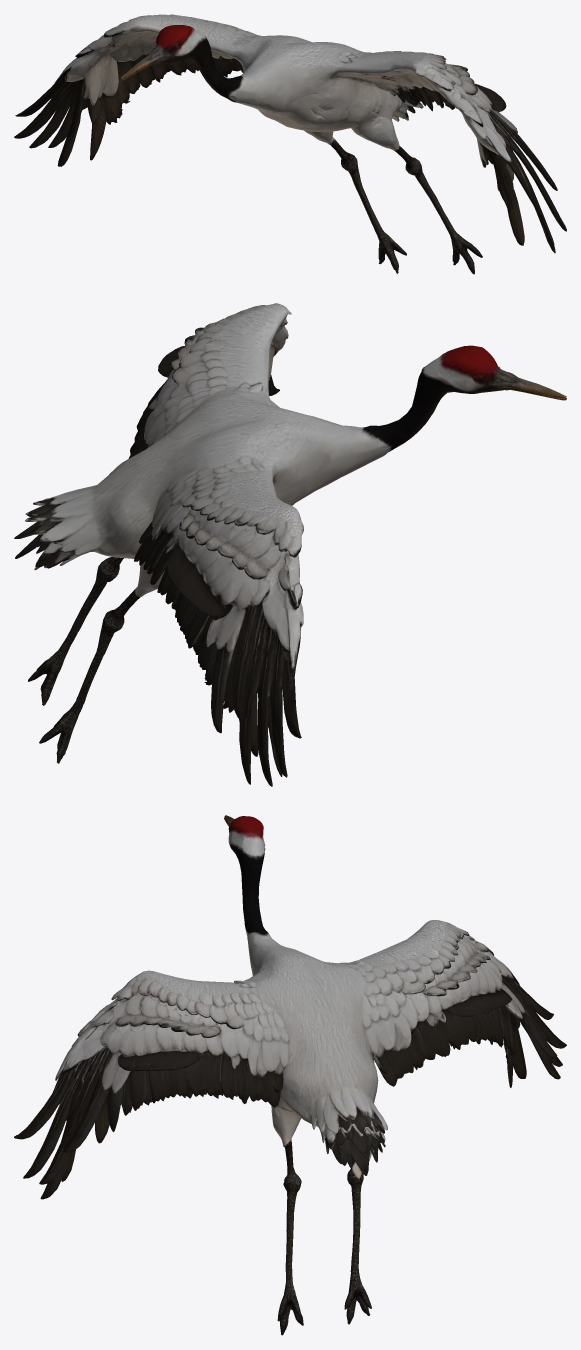
The model's file is whooping-crane.glb.
3 views of the same model, one above another, from view 1: azimuth 30°, elevation 25°; view 2: azimuth 150°, elevation 25°; view 3: azimuth 270°, elevation 25° (orthographic). The views are drawn at different scales.
Visible parts, largest first — view 1: tripo_node_90ae9a4c_tripo_mat_90ae9a4c_0; view 2: tripo_node_90ae9a4c_tripo_mat_90ae9a4c_0; view 3: tripo_node_90ae9a4c_tripo_mat_90ae9a4c_0.
Boxes of the visible parts, left/top/right/bottom form: tripo_node_90ae9a4c_tripo_mat_90ae9a4c_0: left=14, top=14, right=566, bottom=274; tripo_node_90ae9a4c_tripo_mat_90ae9a4c_0: left=14, top=303, right=566, bottom=786; tripo_node_90ae9a4c_tripo_mat_90ae9a4c_0: left=14, top=815, right=566, bottom=1335.
Bounding box in the file's own units: 0.8324 × 0.7172 × 0.9785.
1 material, 1 textured.
